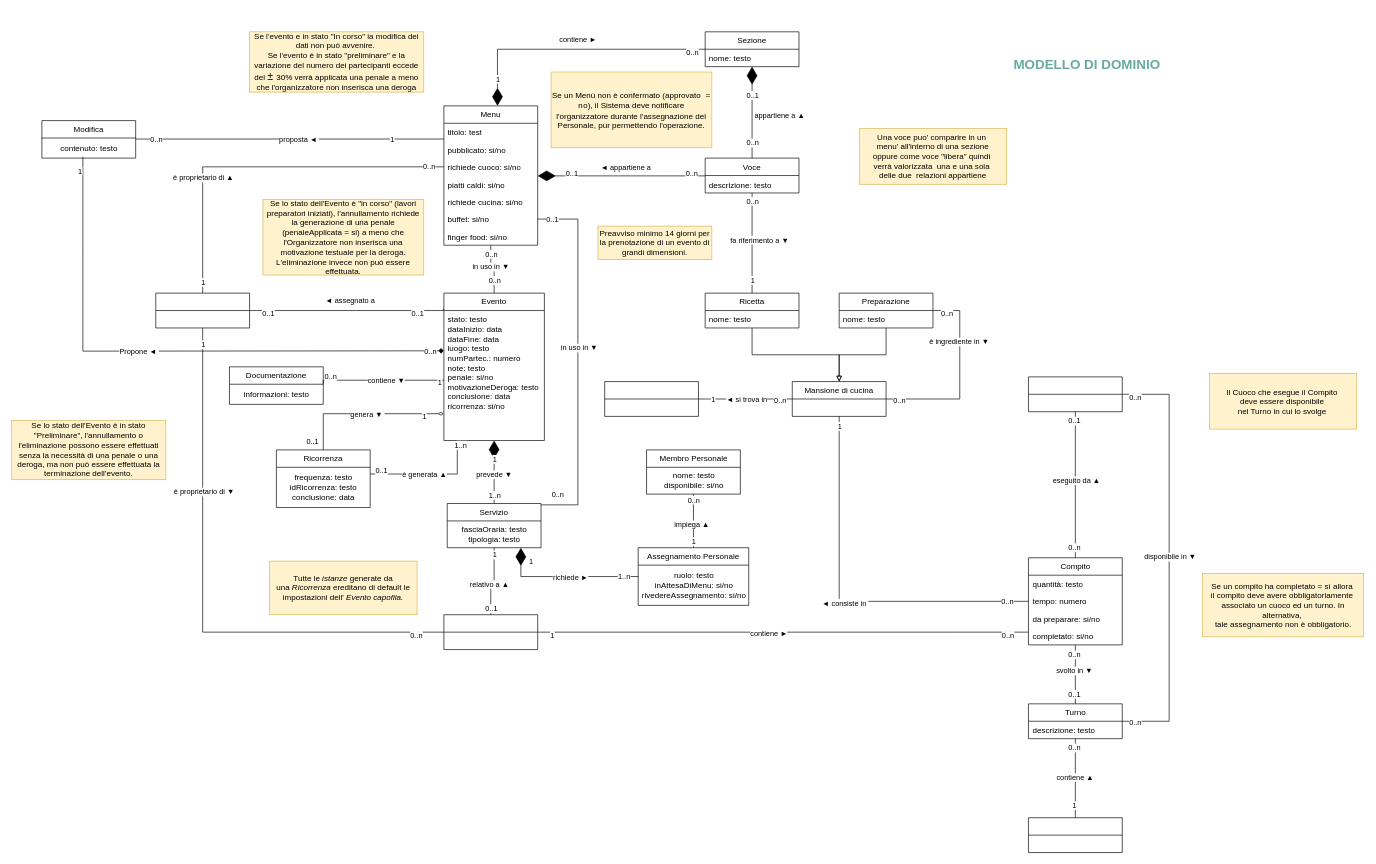
Image size: 1376x864. Some labels were removed from this diagram. The centre of each missing label's shape, as x and y in pixels:
Chef: (202,310)
Cuoco: (1075,394)
Foglio riepilogativo: (490,632)
Ricettario: (651,398)
Tabellone dei turni: (1075,835)
